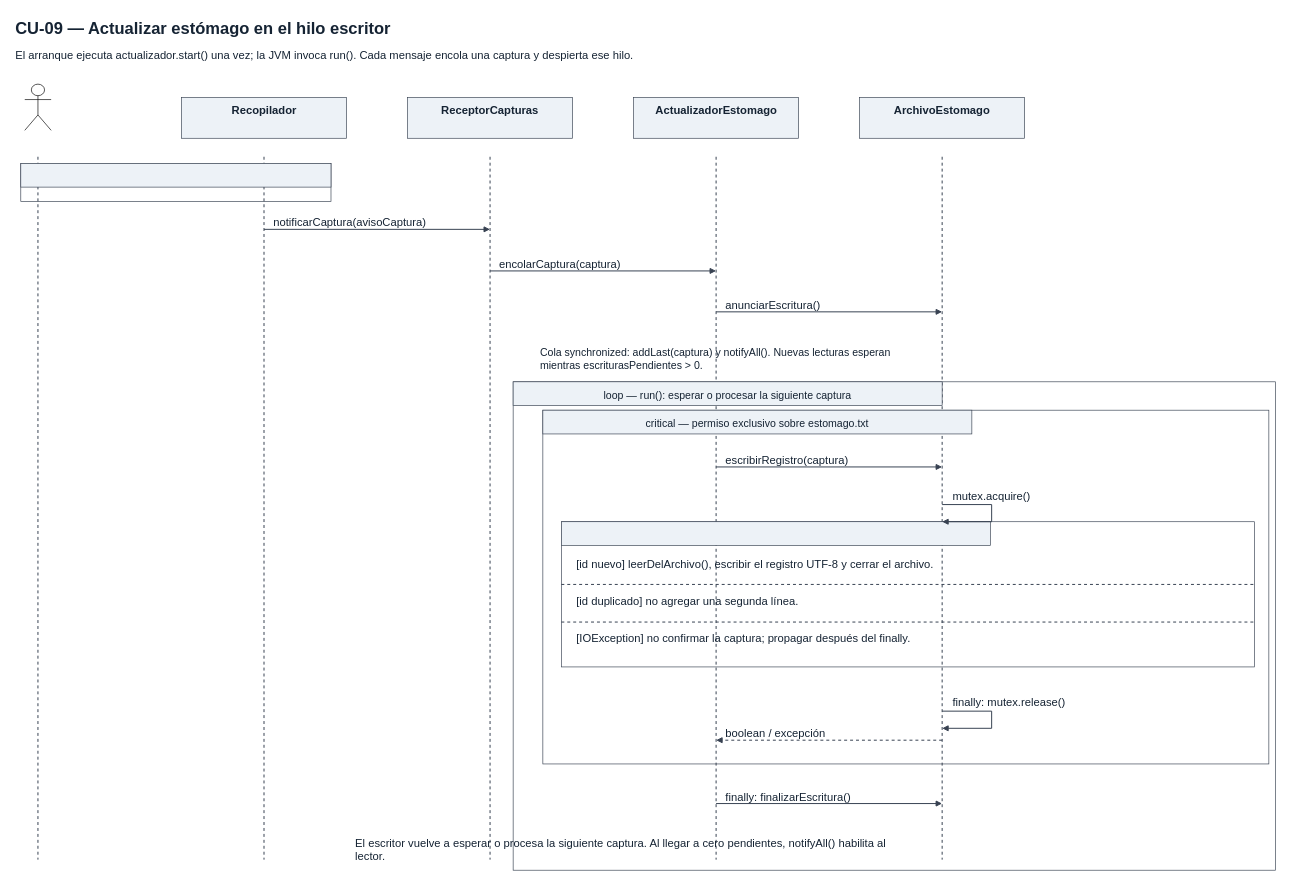
This 1296x882 diagram has some shape labels left out. Each missing label, with the centre of its shape:
"alt — id nuevo / duplicado / IOException" belongs at pixel 775 533.
"Orquita" belongs at pixel 37 106.
"ref CU-06 — captura recibida por TCP" belongs at pixel 175 175.
